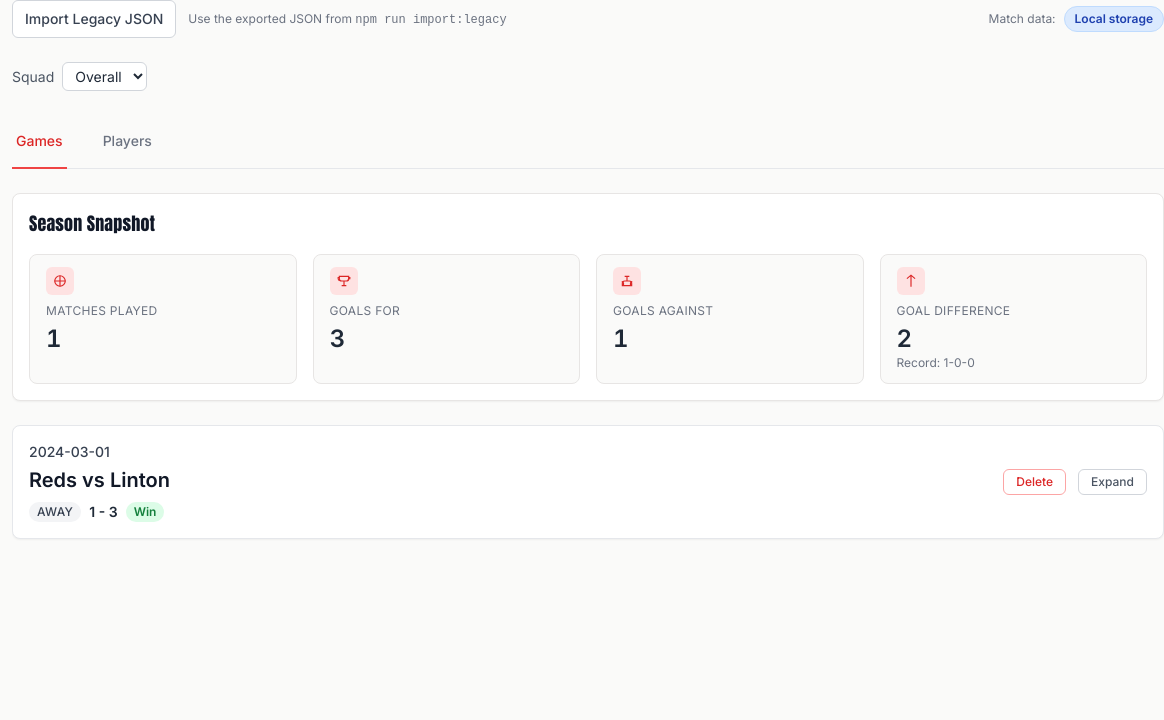
Test case: SeasonStatsView › squads › says when a squad has no games yet rather than the season
This screenshot has width=1164, height=720.
Select "Blacks" in the dropdown labelled "Squad": (105, 76) [62,62,147,91]
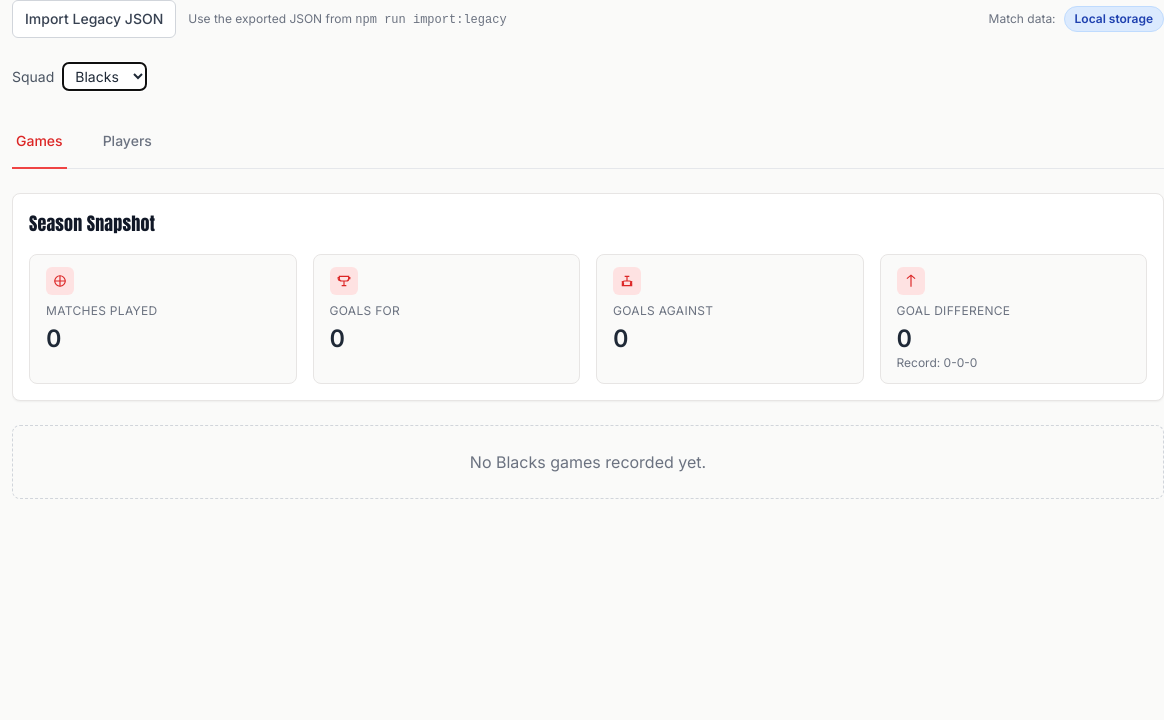
Expected: the text "No Blacks games recorded yet." is shown, [12,425,1163,499]
